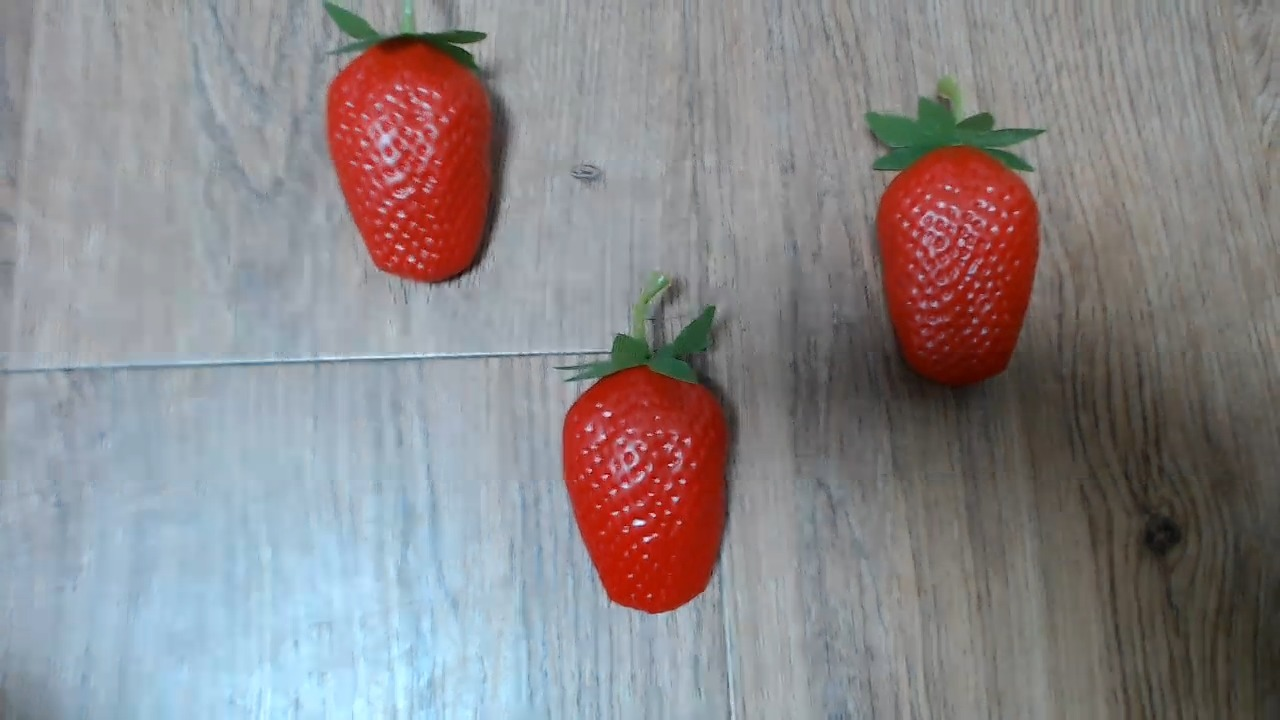strawberry: (839, 104, 1041, 400), (556, 333, 740, 624), (310, 19, 504, 289)
